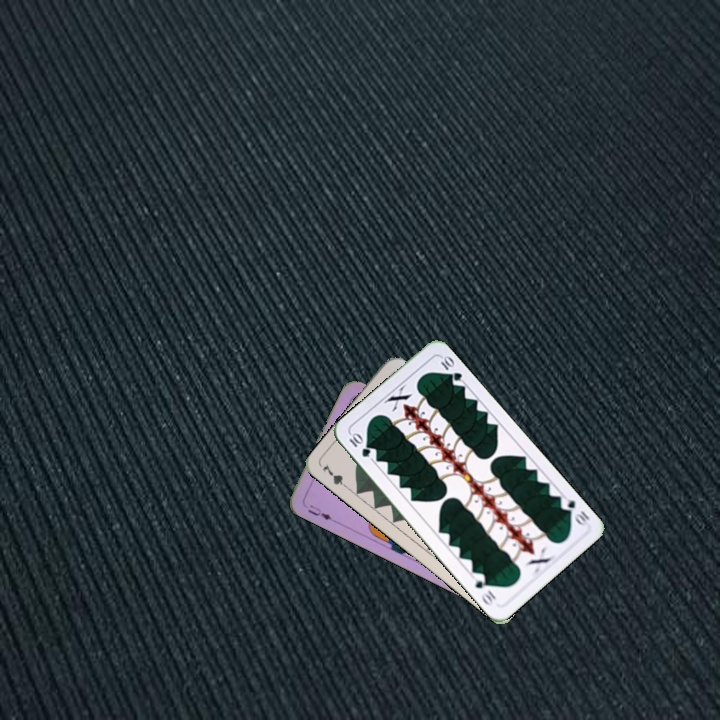EU: (303, 501, 334, 523)
G10: (556, 492, 592, 528), (345, 429, 373, 460)
G7: (318, 460, 353, 493)
